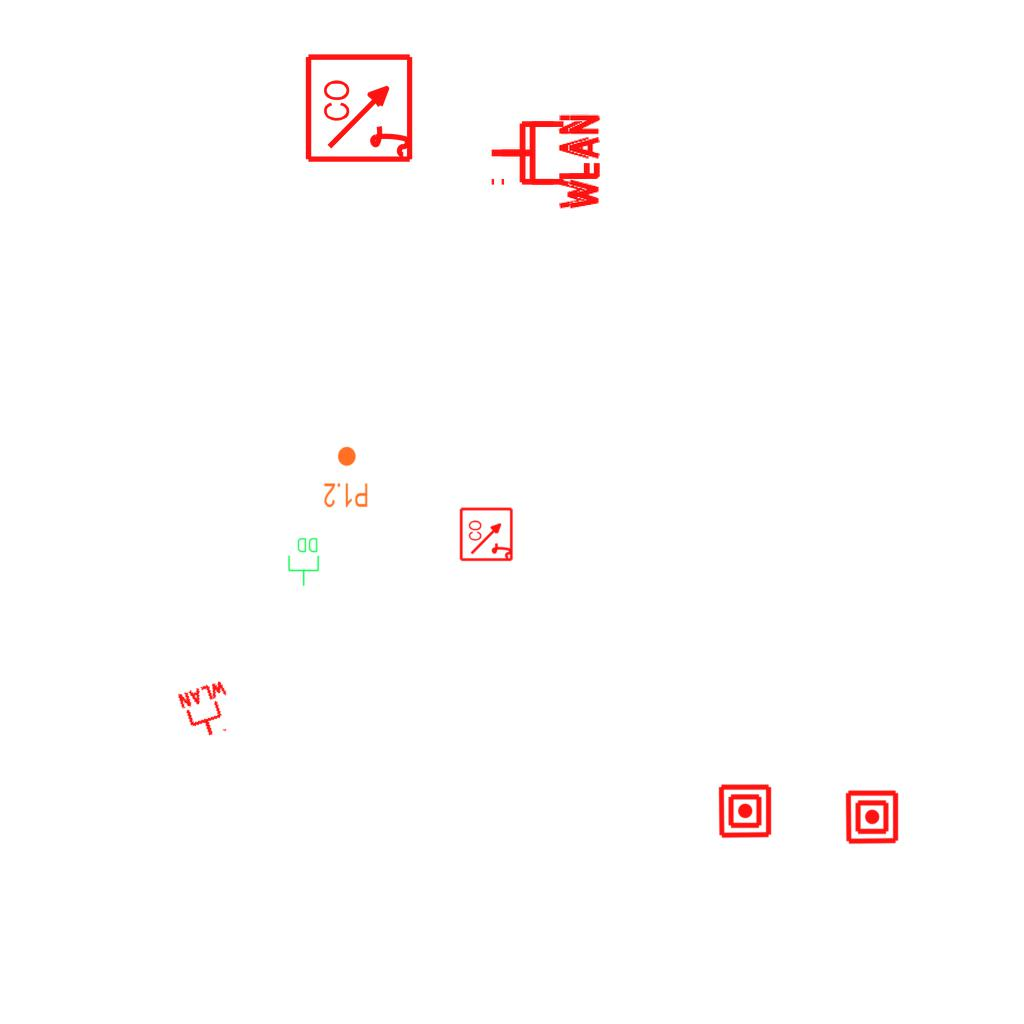Datenanschluss_zweifach: (287, 536, 321, 587)
Downlight_LED_Einbauleuchten_Flur: (323, 445, 369, 509)
NAM-Nichtautomatischer_Melder: (844, 789, 900, 845), (717, 783, 773, 839)
ROA_Rauchmelder_optisch_mit_Signalgeber_(Sockelsirene): (304, 51, 417, 164), (459, 506, 515, 562)
WLAN: (487, 110, 592, 214), (497, 110, 602, 214), (175, 678, 241, 744)
